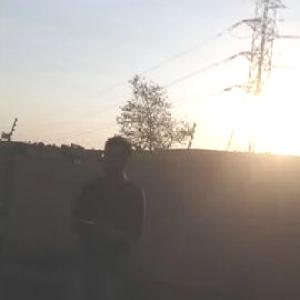follow: (68, 124, 160, 299)
